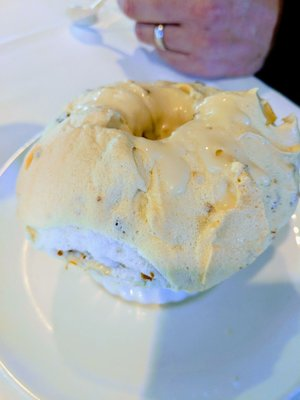salad: (14, 79, 300, 296)
sushi: (14, 78, 300, 295)
